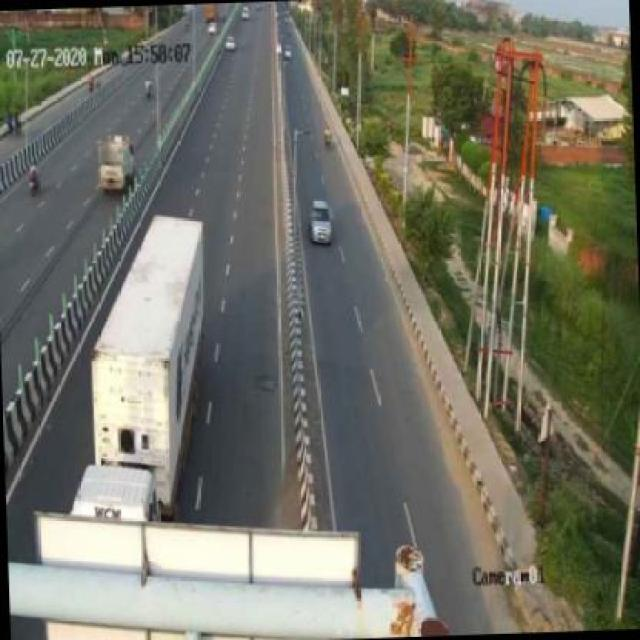car: (309, 197, 334, 245)
